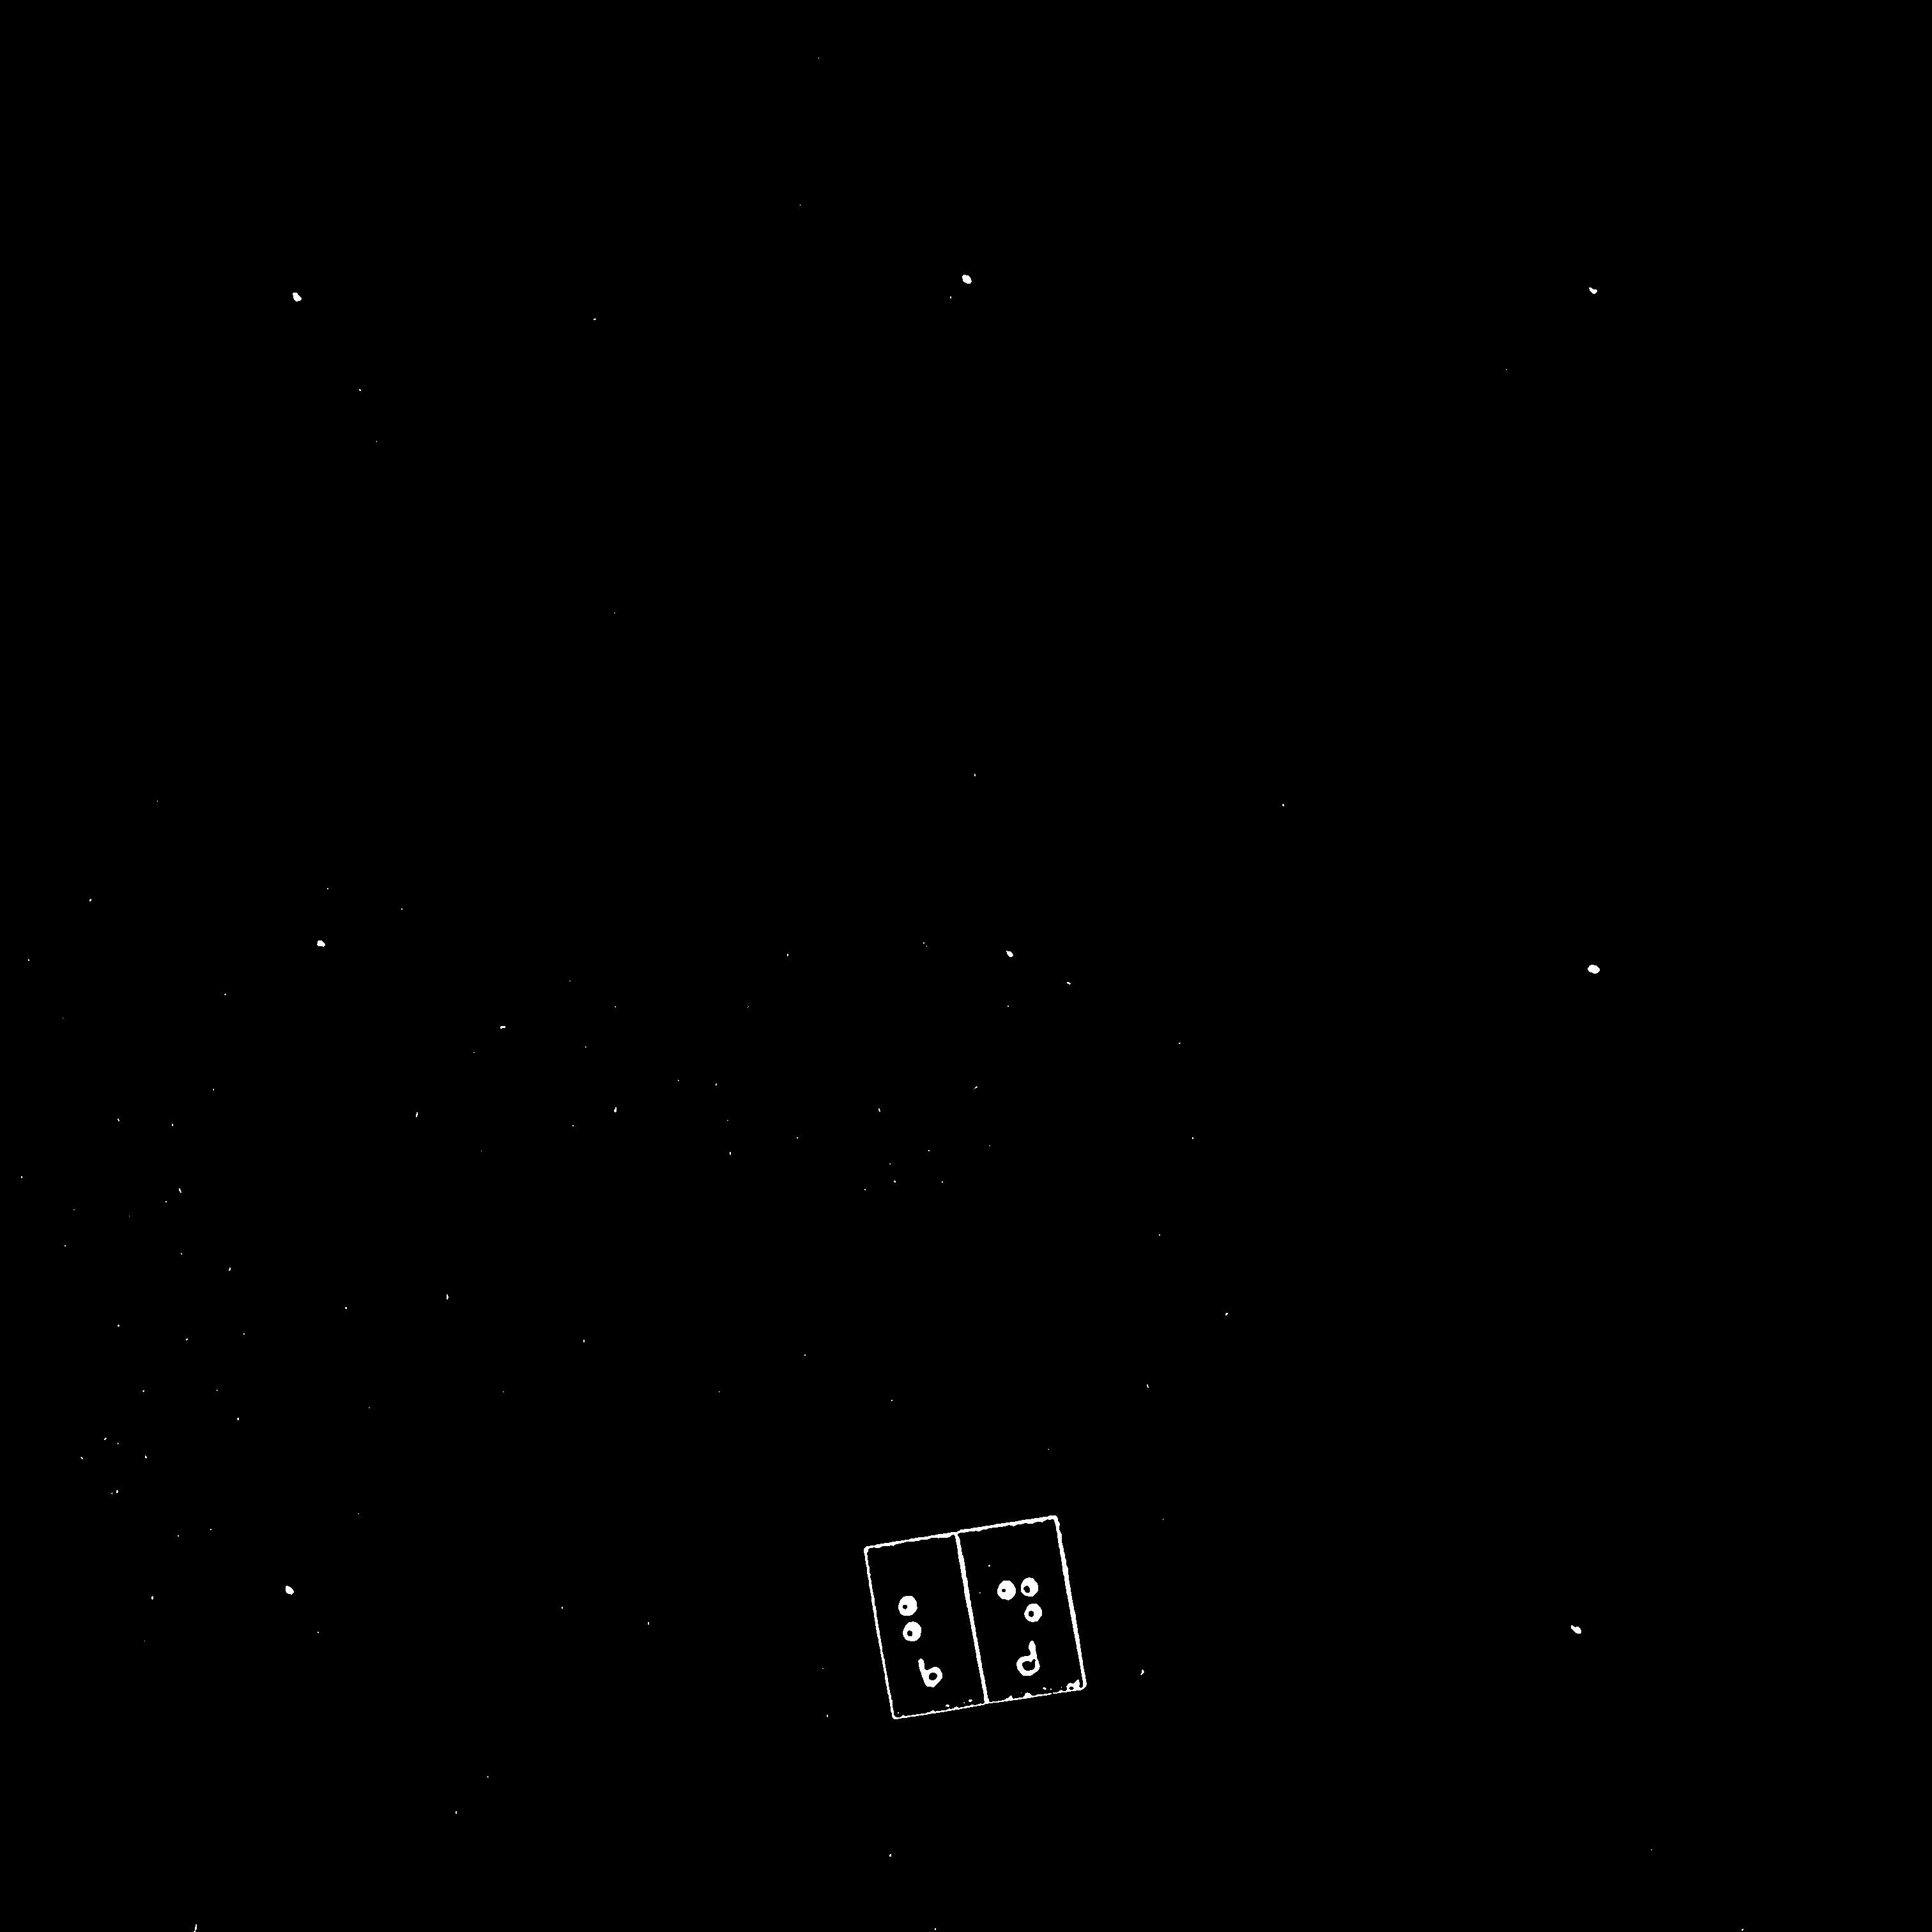b: (893, 1584, 954, 1661)
d: (988, 1568, 1052, 1646)
